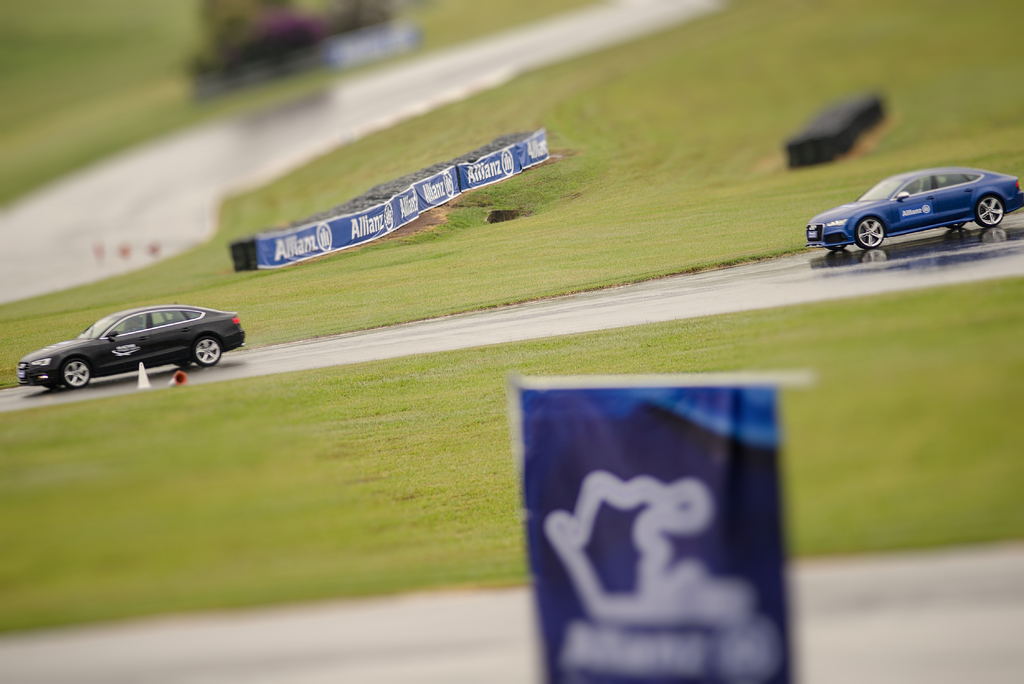cars: (801, 167, 1023, 252), (18, 303, 242, 387)
